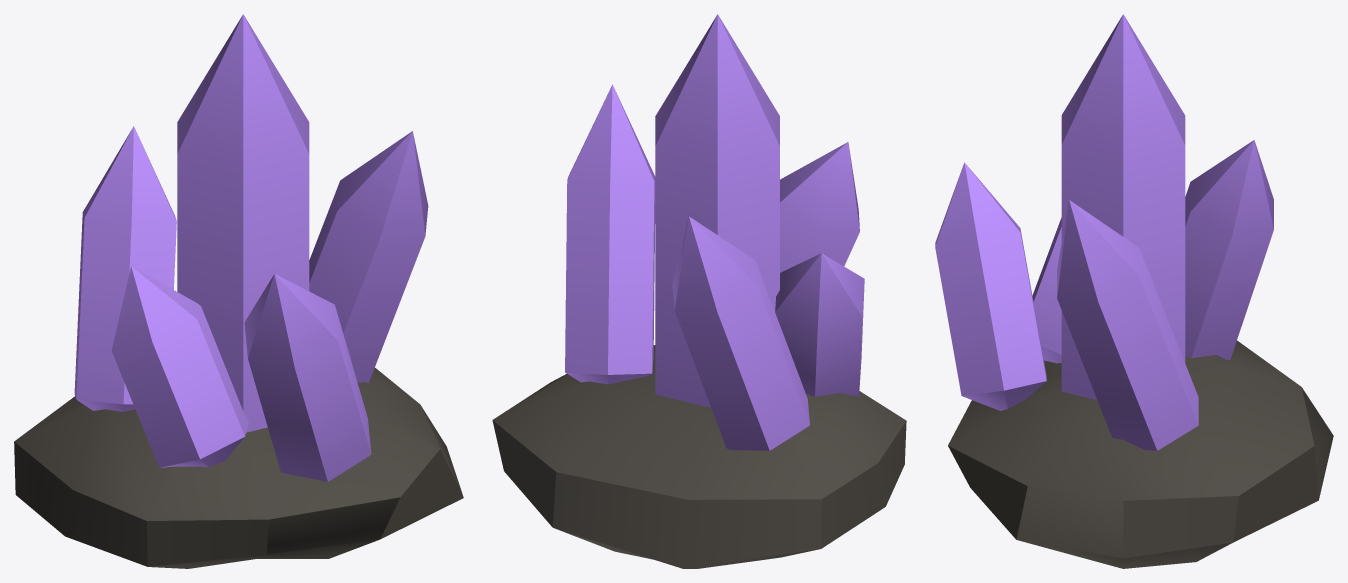
File: item_kristall.obj
3 views of the same model, side by side, from view 1: azimuth 30°, elevation 25°; view 2: azimuth 150°, elevation 25°; view 3: azimuth 270°, elevation 25° (orthographic). The views are drawn at different scales.
Visible parts, largest first — view 1: item_kristall_Koerper; view 2: item_kristall_Koerper; view 3: item_kristall_Koerper.
Boxes of the visible parts, x1,y1,x2,y2 form: item_kristall_Koerper: [14, 14, 463, 568]; item_kristall_Koerper: [492, 14, 906, 568]; item_kristall_Koerper: [935, 14, 1333, 568].
Bounding box in the file's own units: 0.2889 × 0.3902 × 0.2791.
